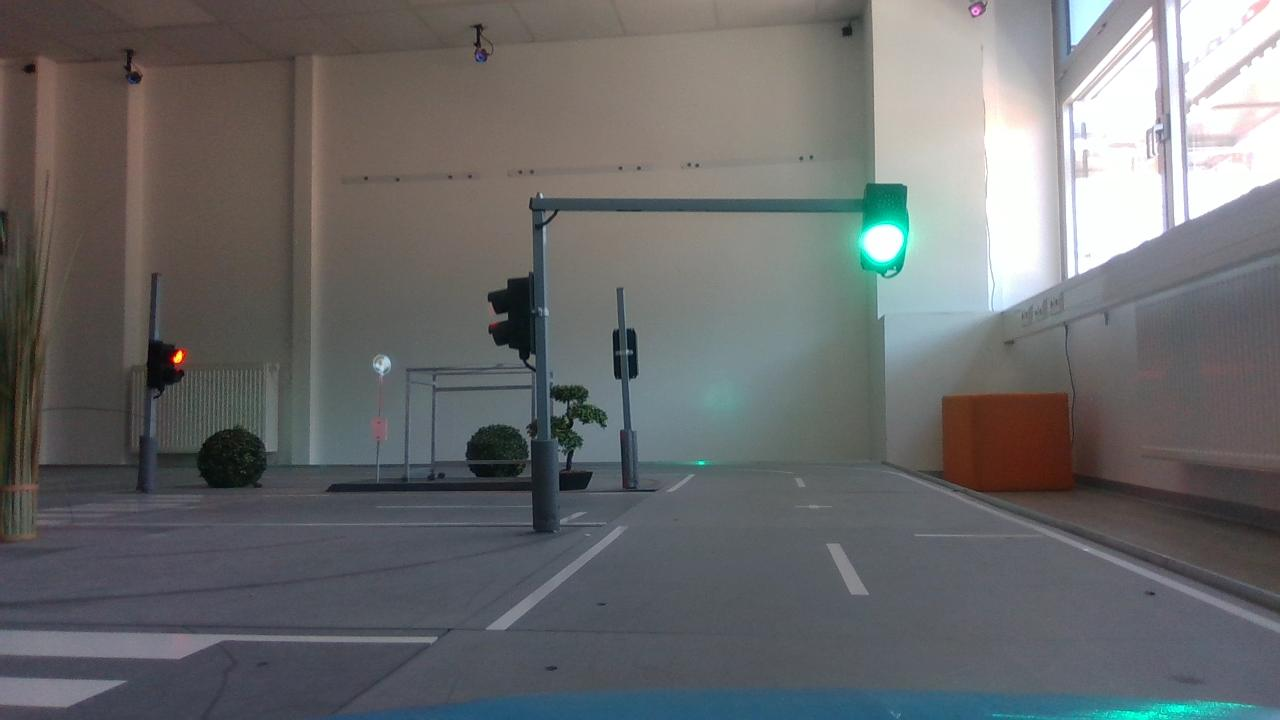traffic_light_green: (845, 167, 925, 289)
